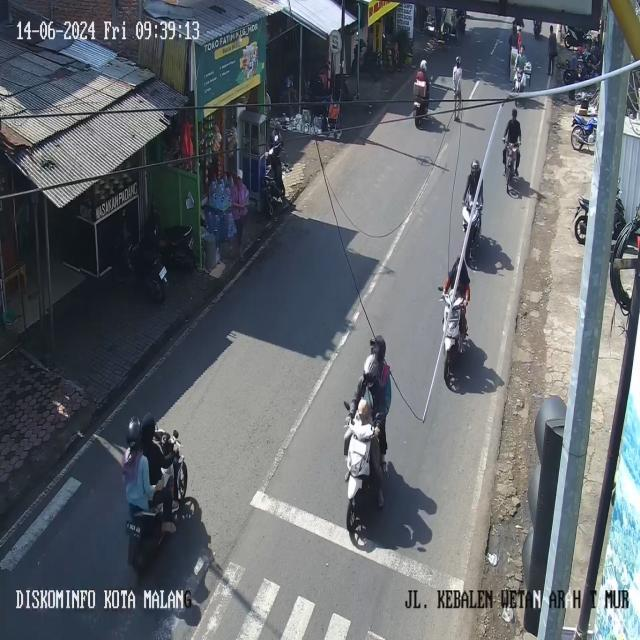Helmet: (363, 354, 379, 383), (126, 417, 141, 447), (370, 335, 385, 363), (141, 413, 155, 440), (471, 160, 480, 173), (419, 59, 426, 72), (512, 108, 516, 118), (456, 56, 460, 65), (517, 25, 521, 31)
Number Plate: (126, 521, 140, 537), (159, 266, 166, 278)
